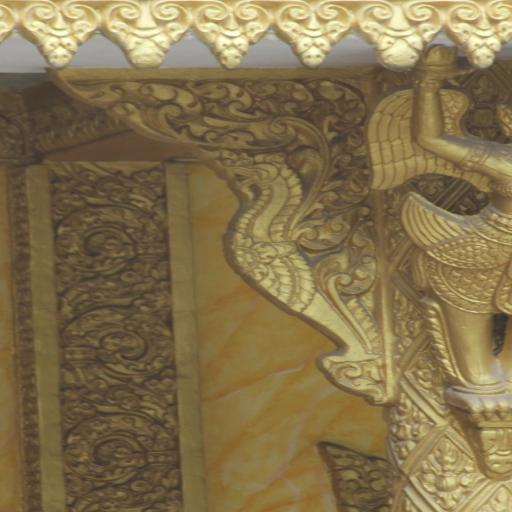la: (57, 396, 177, 512), (53, 285, 174, 396), (55, 185, 160, 281), (7, 0, 100, 67), (100, 0, 187, 70), (187, 0, 270, 69), (268, 0, 352, 65), (353, 1, 438, 63), (436, 2, 512, 66)
lua: (92, 73, 362, 150), (320, 145, 383, 306)
ran: (214, 156, 320, 314)
than: (381, 64, 512, 396)
